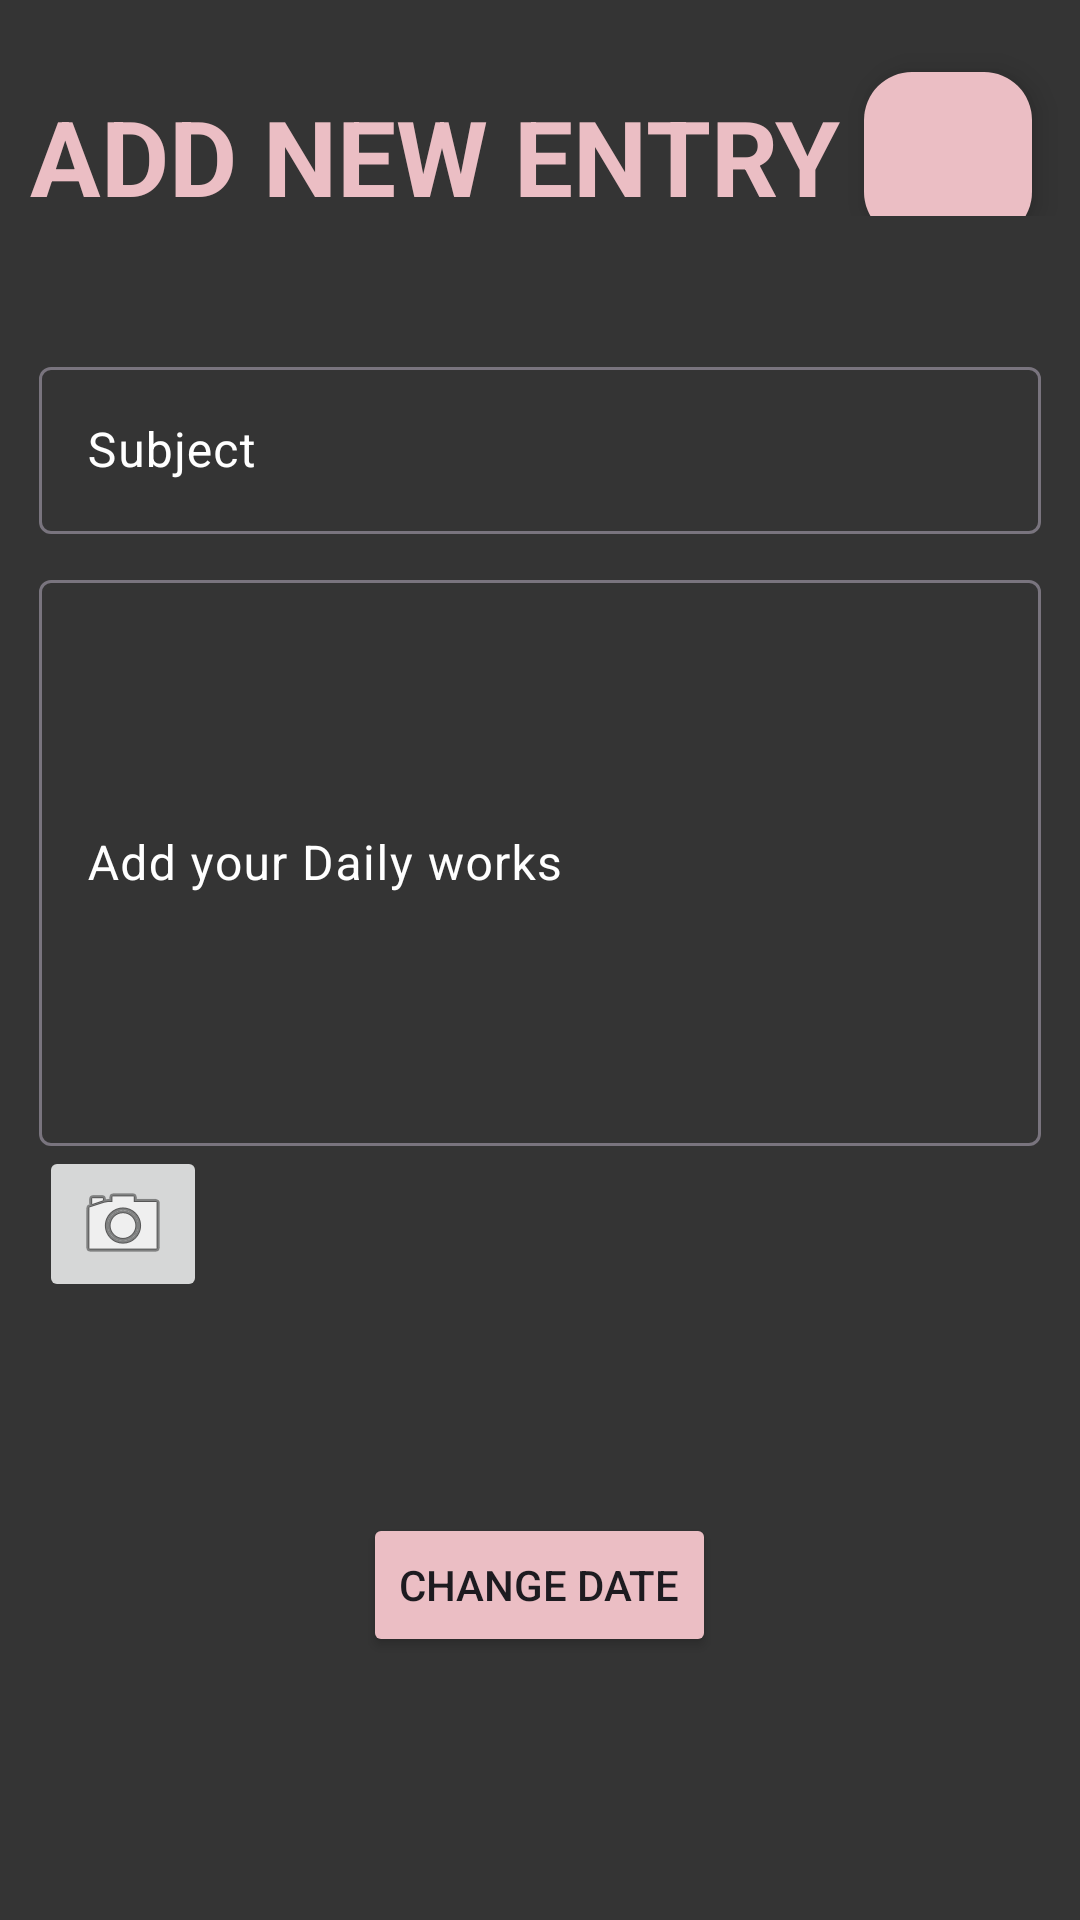

Where to tap for icons on this 1080*1920 app screen, as point (x, y):
camera: point (123, 1224)
